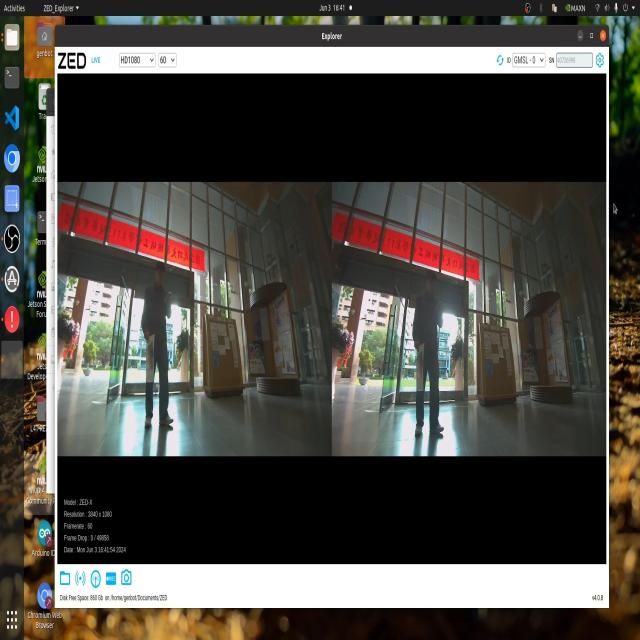green: (412, 347, 427, 395), (147, 339, 153, 378)
